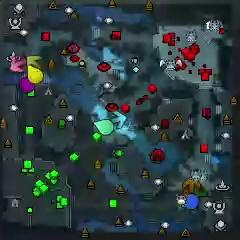p1: (184, 194, 199, 210)
p2: (93, 119, 113, 136)
p3: (19, 76, 35, 93)
p4: (27, 65, 43, 84)
x1: (10, 56, 27, 73)
x2: (25, 56, 43, 70)
x3: (110, 111, 126, 128)
x4: (194, 184, 209, 197)
x5: (183, 177, 201, 193)
